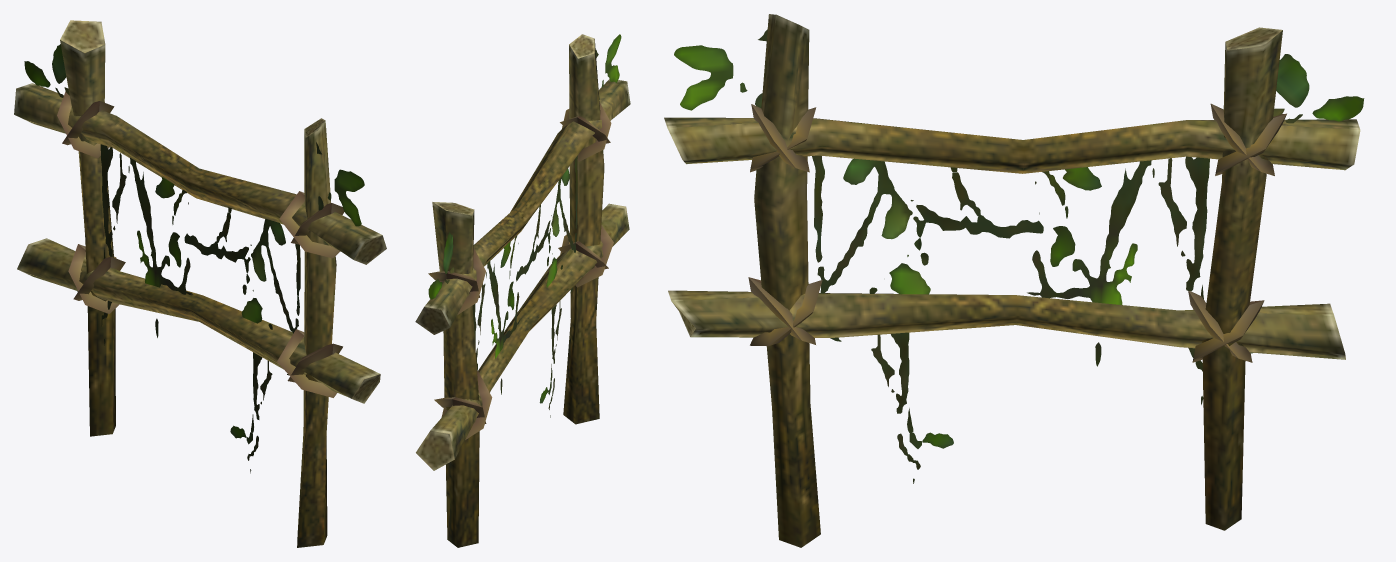
The model's file is OT_ZJ_langan001.fbx.
3 views of the same model, side by side, from view 1: azimuth 30°, elevation 25°; view 2: azimuth 150°, elevation 25°; view 3: azimuth 270°, elevation 25° (orthographic). The views are drawn at different scales.
Parts seen in each view (by area): view 1: OT_ZJ_langan001; view 2: OT_ZJ_langan001; view 3: OT_ZJ_langan001.
Boxes of the visible parts, <box> form: OT_ZJ_langan001: <box>14,20,386,547</box>; OT_ZJ_langan001: <box>415,34,630,547</box>; OT_ZJ_langan001: <box>664,14,1364,547</box>.
Size of the model in its own units: 0.5543 by 2.16 by 2.65.
2 materials, 2 textured.
